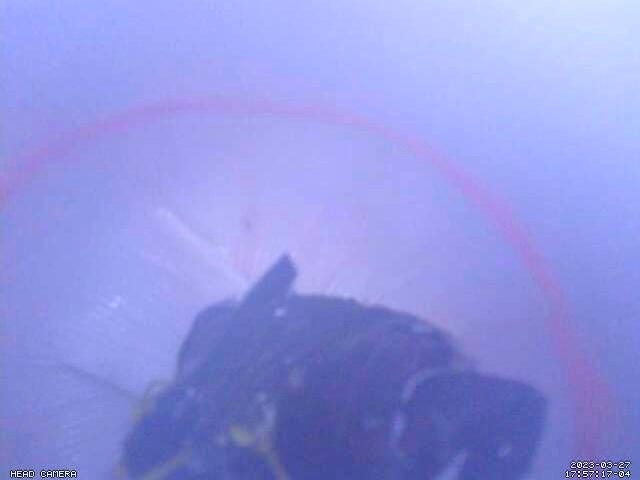head: (0, 97, 602, 480)
